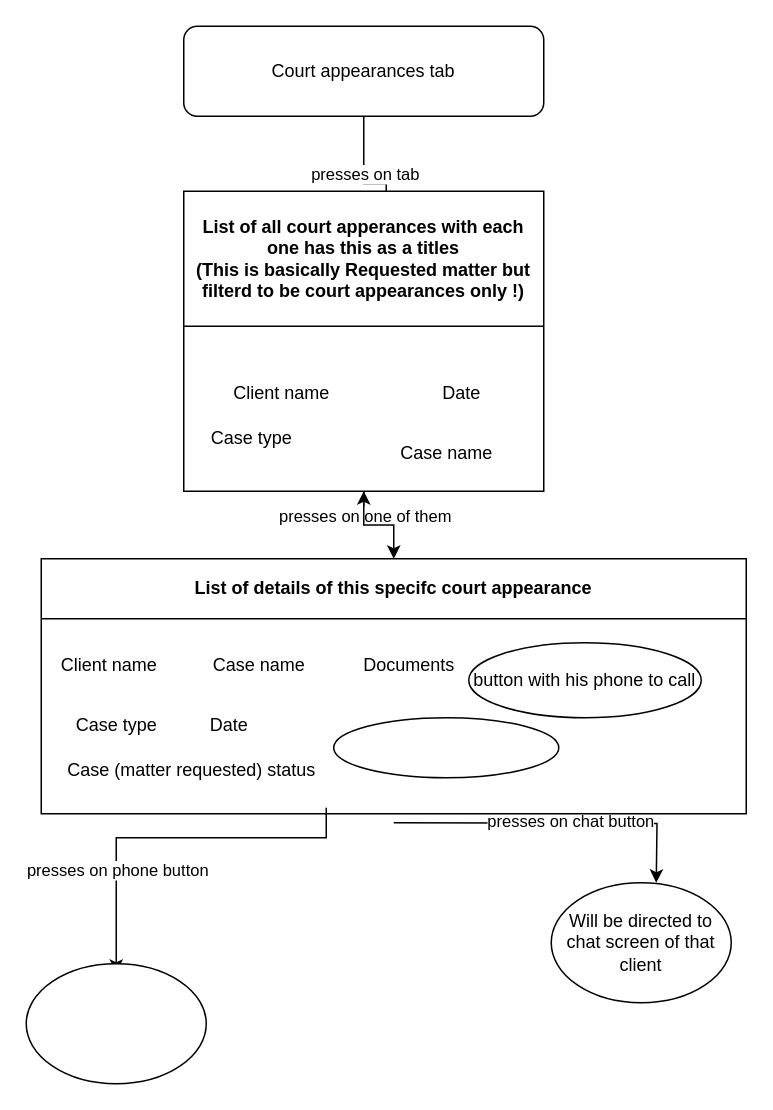
The diagram is 773 pixels wide and 1110 high, and some of its shapes have lost their labels. Here are the shapes that lost their labels. From the top down, the box of each, then its label:
(332, 716, 559, 778): Button to chat with client
(25, 962, 206, 1084): Will call the client
